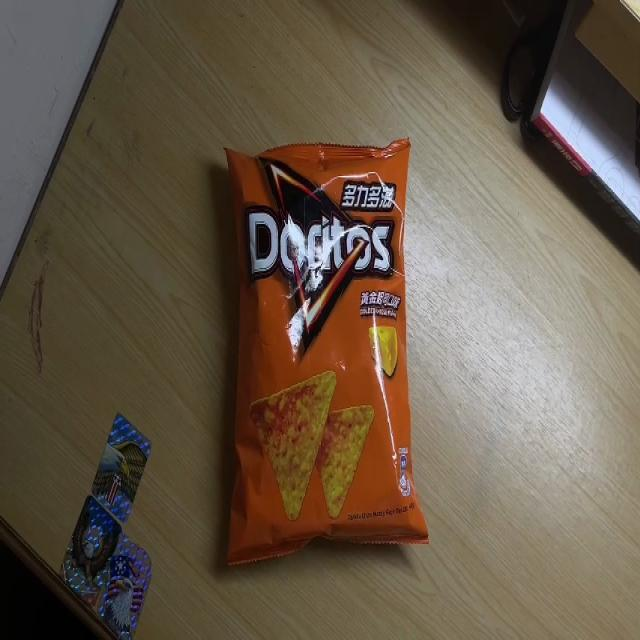Doritos: (222, 138, 430, 572)
